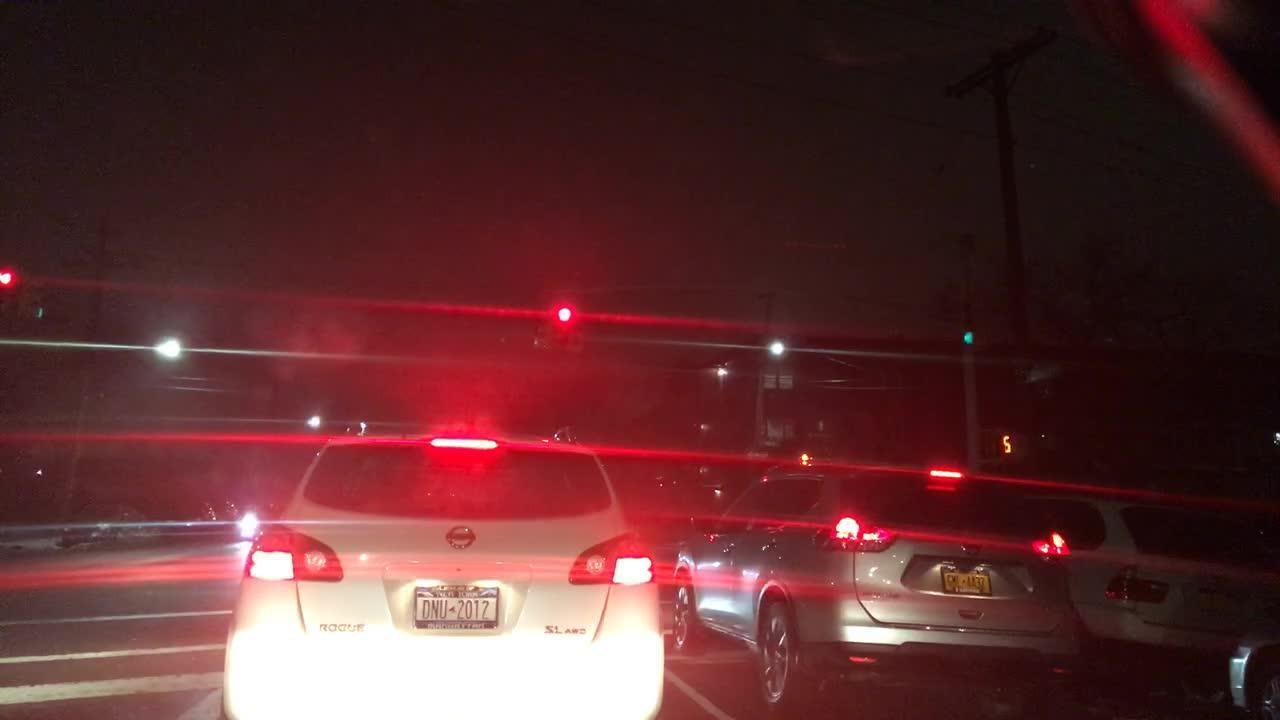Nissan: (444, 523, 483, 557)
